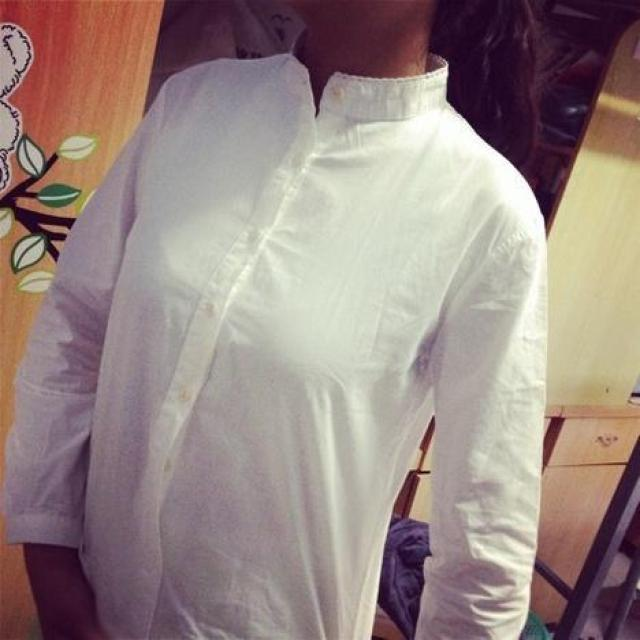long sleeve top: (10, 31, 546, 639)
